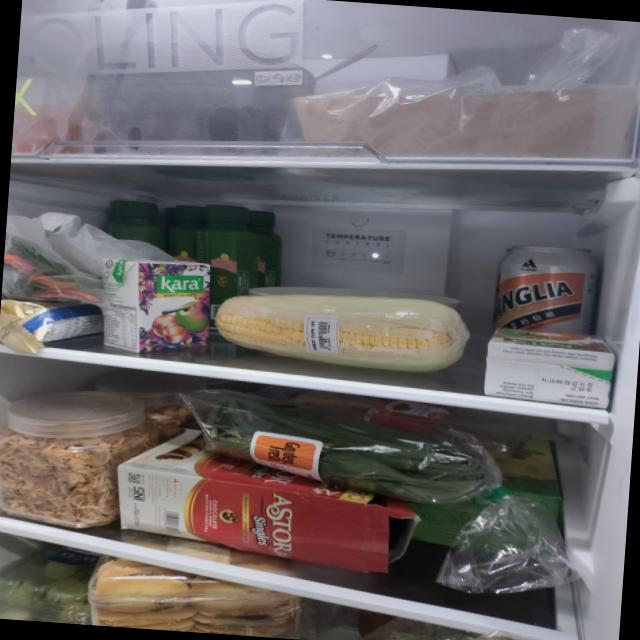chili: (1, 235, 102, 302)
coconut_milk: (96, 254, 216, 358), (482, 326, 616, 410)
corn: (212, 284, 474, 376)
grape: (0, 556, 97, 624)
leafy_greens: (198, 391, 494, 508)
